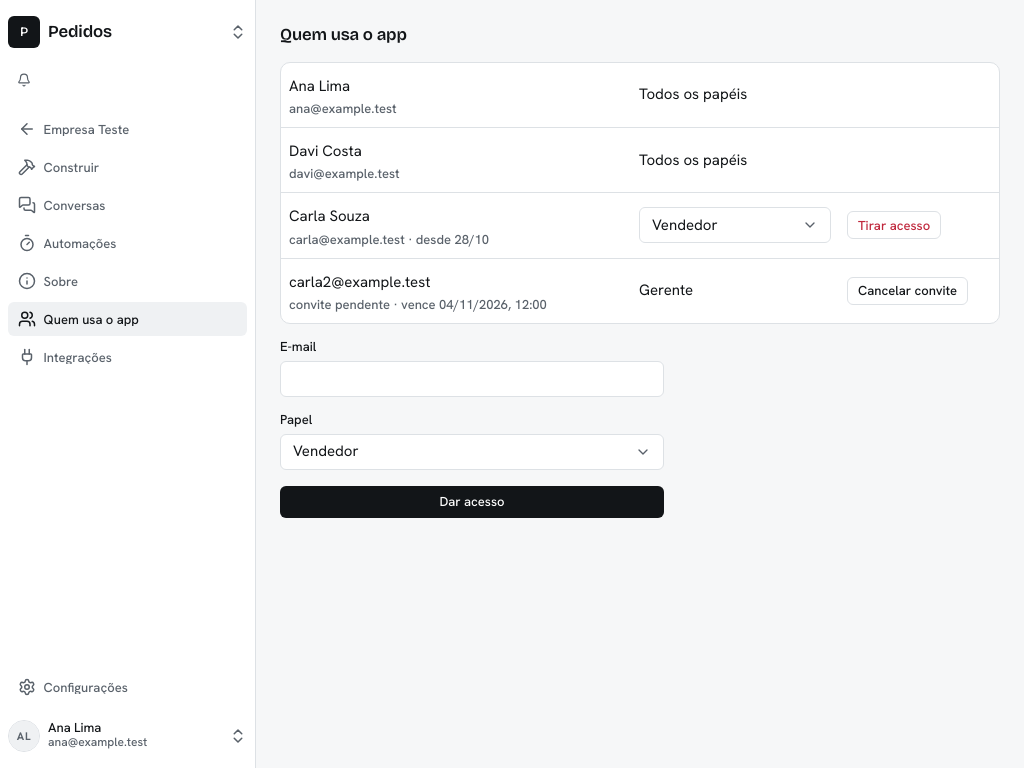
Test: tirar acesso: a confirmação diz o que acontece e confirmar manda o DELETE
Expected: the heading "Quem usa o app" is shown, [280,24,407,45]
Click the button with aria-label "Tirar acesso: Carla Souza".
click(894, 226)  # box [847,212,941,240]
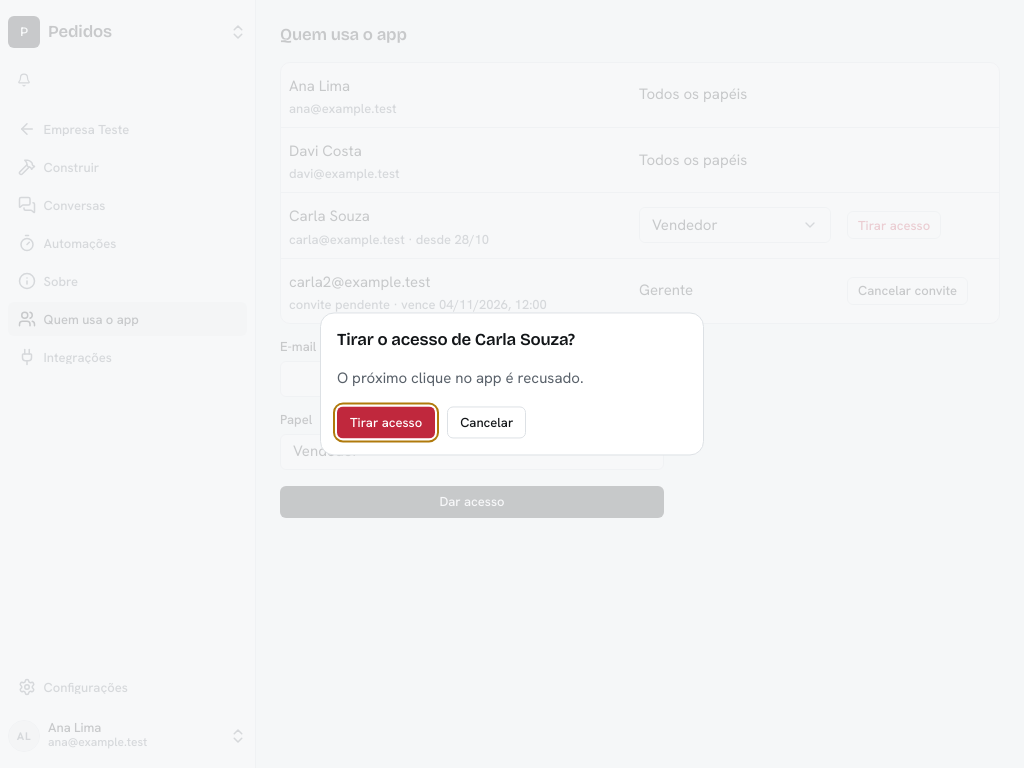
Expected: the dialog shows "Tirar o acesso de Carla Souza?", [337,330,575,350]
Expected: the dialog shows "O próximo clique no app é recusado.", [337,368,584,388]
Click the button "Tirar acesso".
click(386, 422)  # box [337,406,435,438]
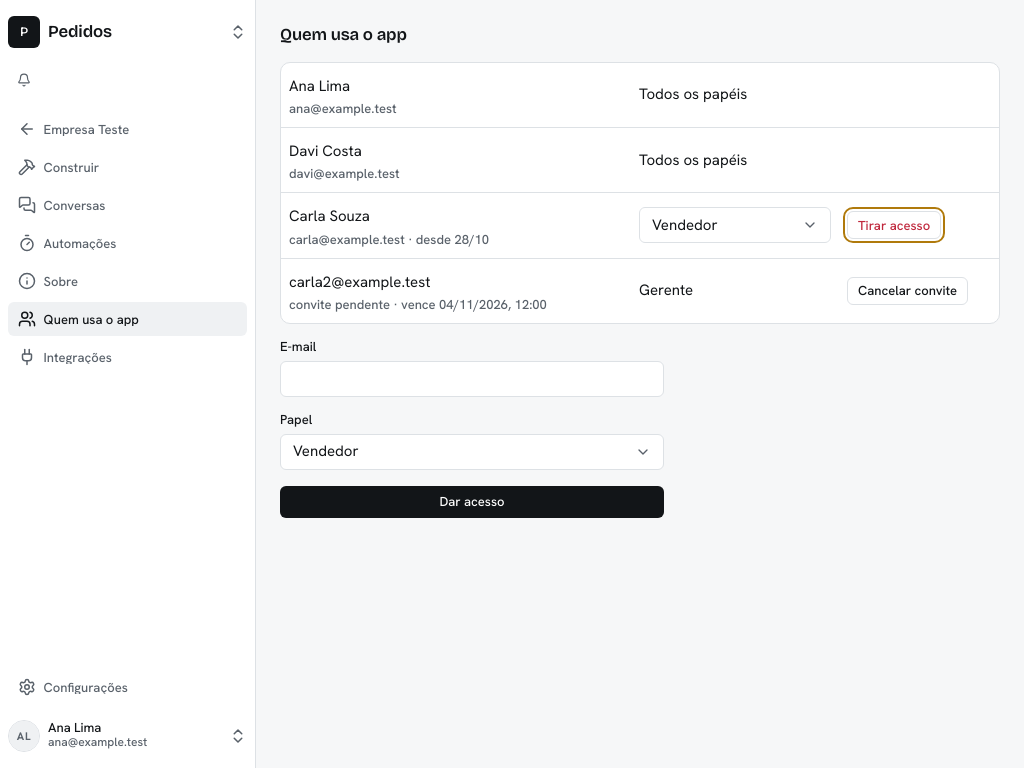
Expected: the dialog is gone
